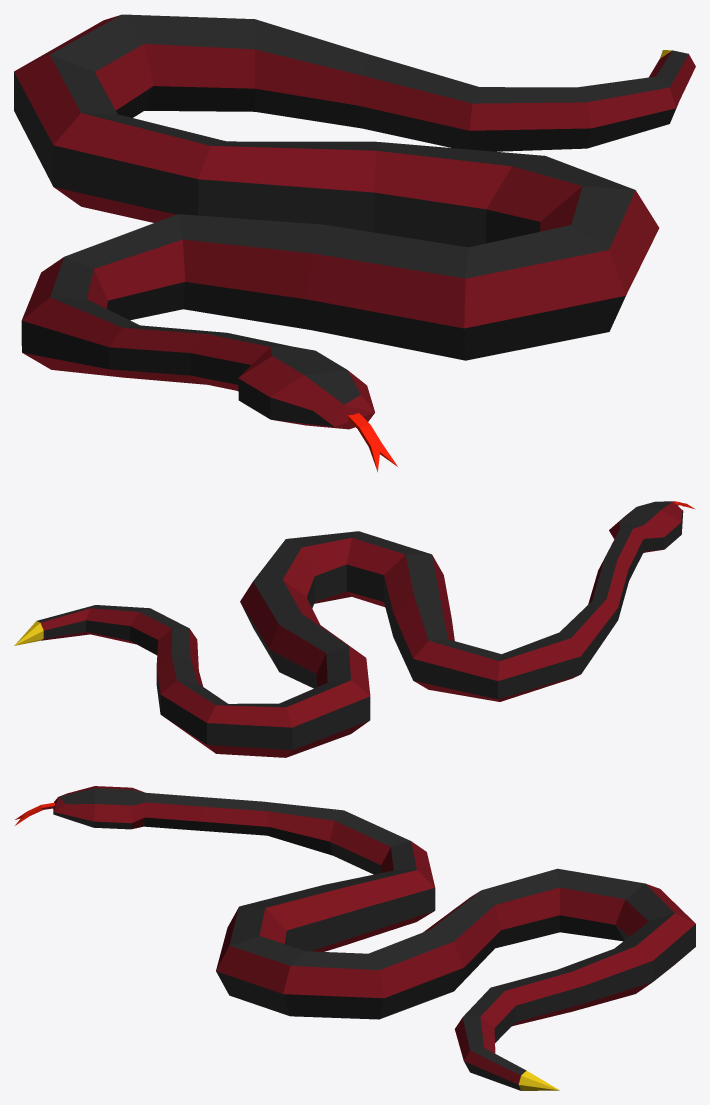
The model's file is Snake.fbx.
3 views of the same model, one above another, from view 1: azimuth 30°, elevation 25°; view 2: azimuth 150°, elevation 25°; view 3: azimuth 270°, elevation 25° (orthographic). The views are drawn at different scales.
Parts seen in each view (by area): view 1: snake; view 2: snake; view 3: snake.
Boxes of the visible parts, x1=… form: snake: x1=14, y1=14, x2=695, y2=472; snake: x1=14, y1=501, x2=695, y2=757; snake: x1=15, y1=786, x2=695, y2=1090.
Size of the model in its own units: 208 by 40.91 by 249.
